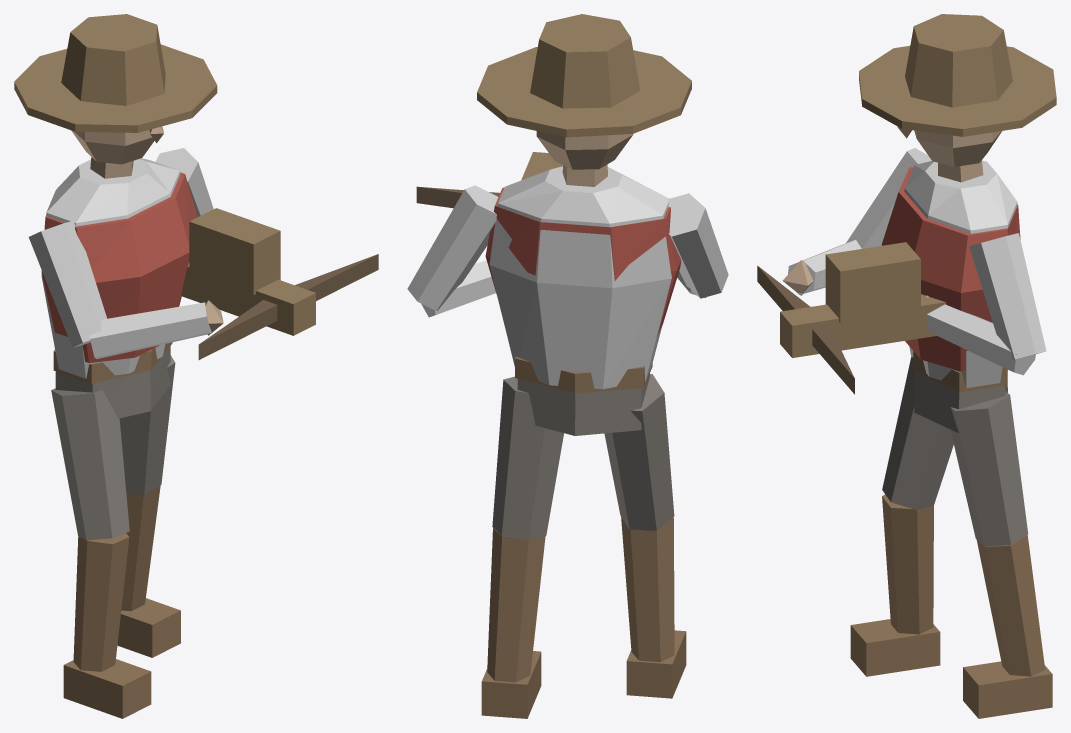
The model's file is chu-ko-nu.glb.
The picture shows the model from 3 angles, left to right: view 1: azimuth 30°, elevation 25°; view 2: azimuth 150°, elevation 25°; view 3: azimuth 270°, elevation 25°; orthographic projection. The views are drawn at different scales.
Parts seen in each view (by area): view 1: LOD0; view 2: LOD0; view 3: LOD0.
Part boxes in pixels (x1,y1,x2,y2): LOD0: (14, 14, 378, 718); LOD0: (407, 14, 728, 718); LOD0: (757, 14, 1056, 718).
Size of what is drawn, in the model's own units: 0.5116 by 1 by 0.4192.
